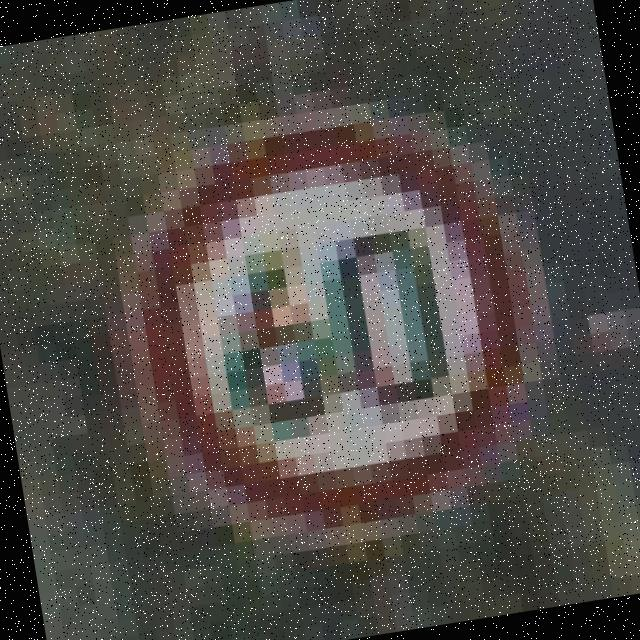Ograniczenie predkosci do 60: (113, 95, 552, 546)
